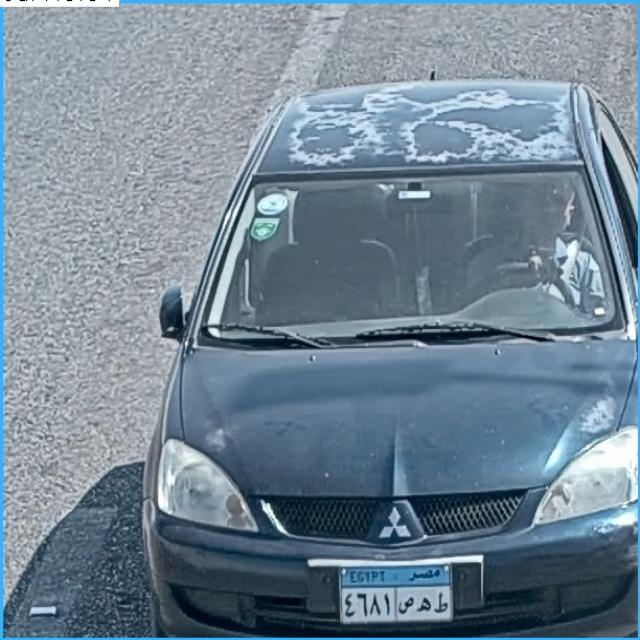windshield: (203, 170, 627, 337)
